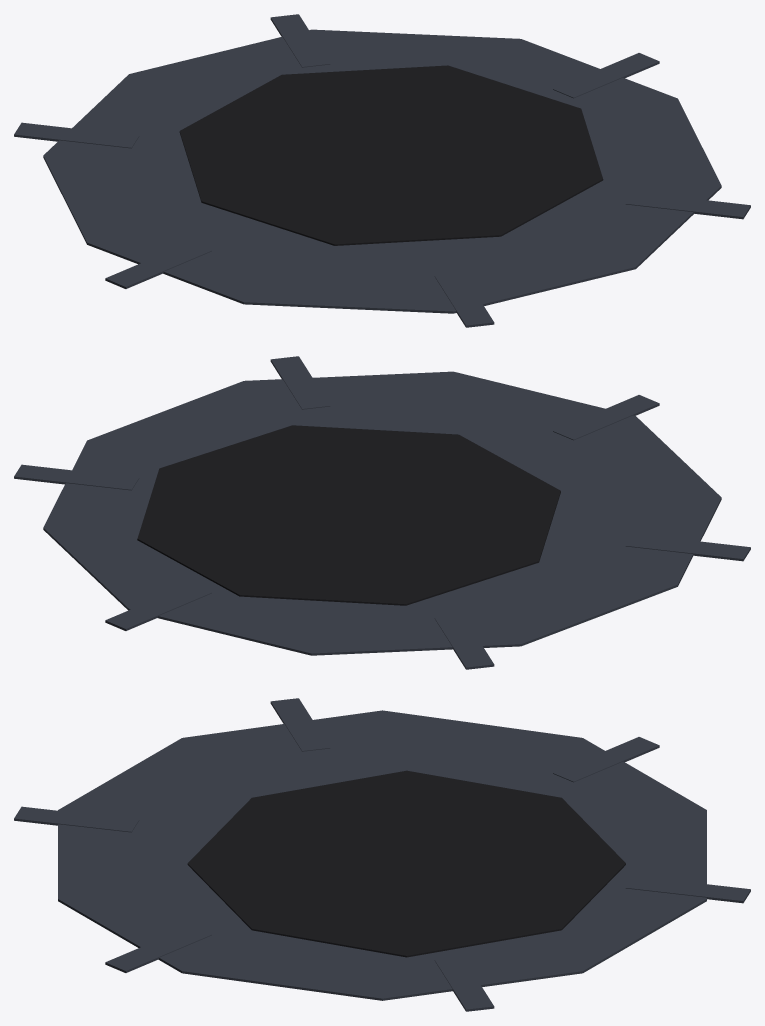
File: SH_ScorchedGround_01.glb
3 renders of one model, top to bottom at view 1: azimuth 30°, elevation 25°; view 2: azimuth 150°, elevation 25°; view 3: azimuth 270°, elevation 25°, orthographic.
Parts seen in each view (by area): view 1: SH_ScorchedGround_01; view 2: SH_ScorchedGround_01; view 3: SH_ScorchedGround_01.
Boxes of the visible parts, x1,y1,x2,y2 form: SH_ScorchedGround_01: [14, 14, 750, 327]; SH_ScorchedGround_01: [14, 356, 750, 669]; SH_ScorchedGround_01: [14, 698, 750, 1011].
Size of the model in its own units: 3.03 by 0.017 by 3.03.
Materials: 1 (1 with a texture image).
